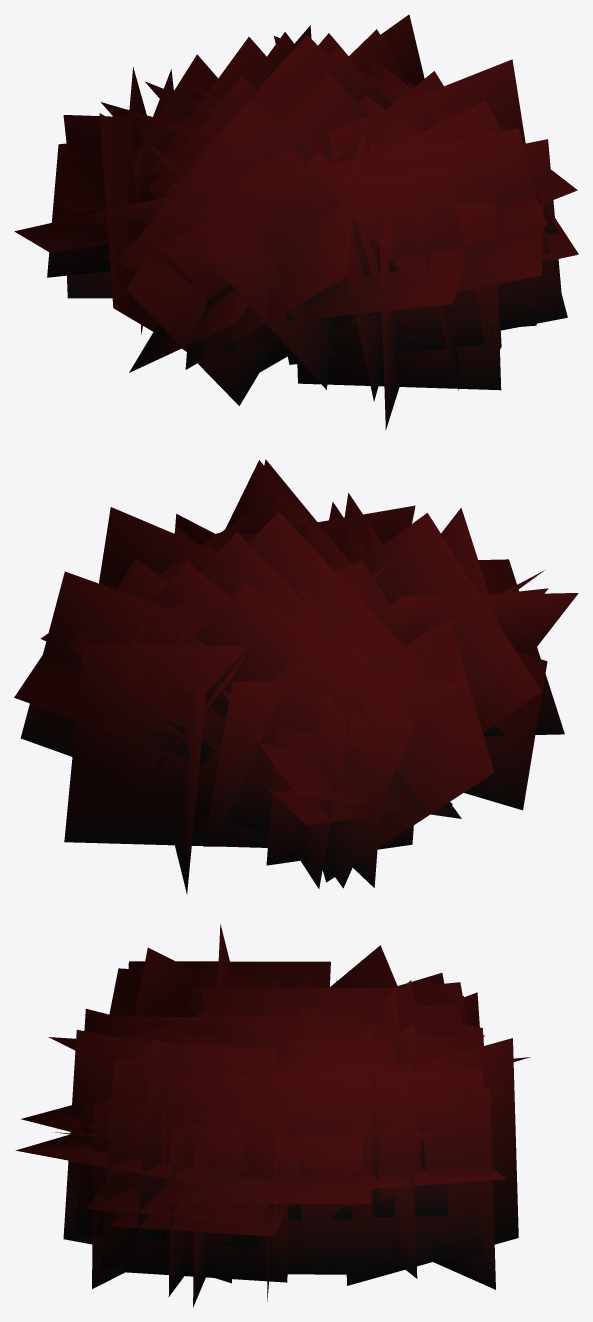
File: HedgeFlowerPot01.fbx
3 renders of one model, top to bottom at view 1: azimuth 30°, elevation 25°; view 2: azimuth 150°, elevation 25°; view 3: azimuth 270°, elevation 25°, orthographic. The views are drawn at different scales.
Parts seen in each view (by area): view 1: Cube.013; view 2: Cube.013; view 3: Cube.013.
Part boxes in pixels (x1,y1,x2,y2): Cube.013: [14, 14, 578, 430]; Cube.013: [14, 459, 578, 893]; Cube.013: [15, 924, 530, 1307].
Bounding box in the file's own units: 110 × 70.13 × 118.
